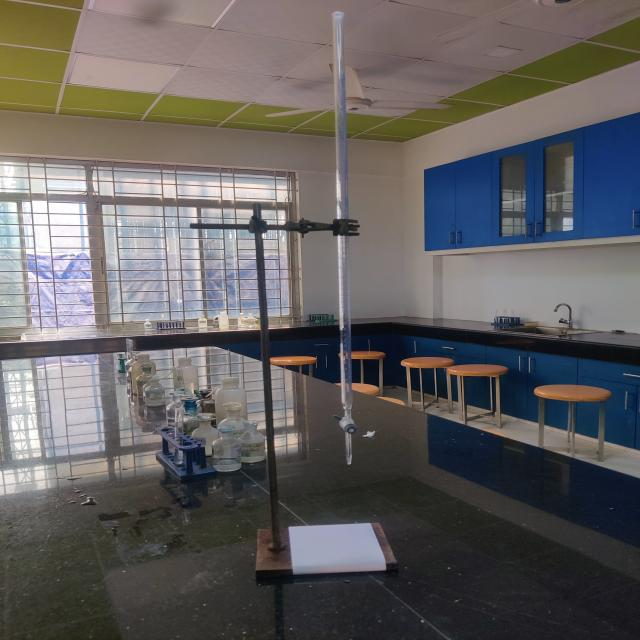Burette_Stands: (158, 197, 463, 603)
